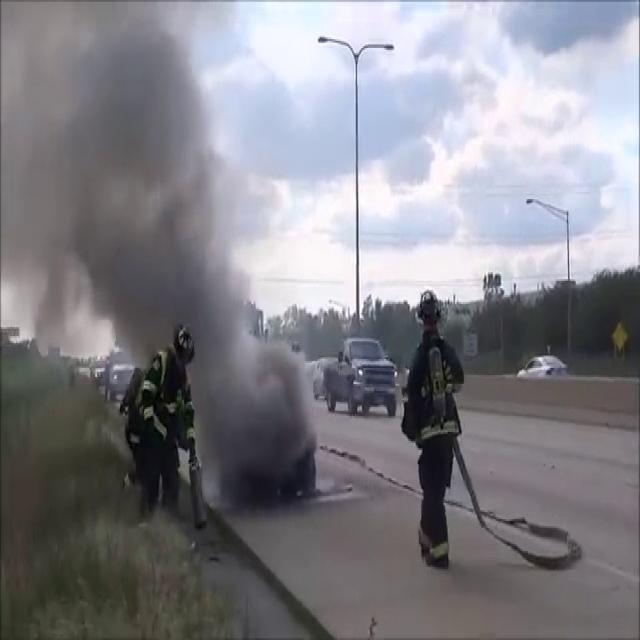Smoke: (2, 1, 316, 502)
